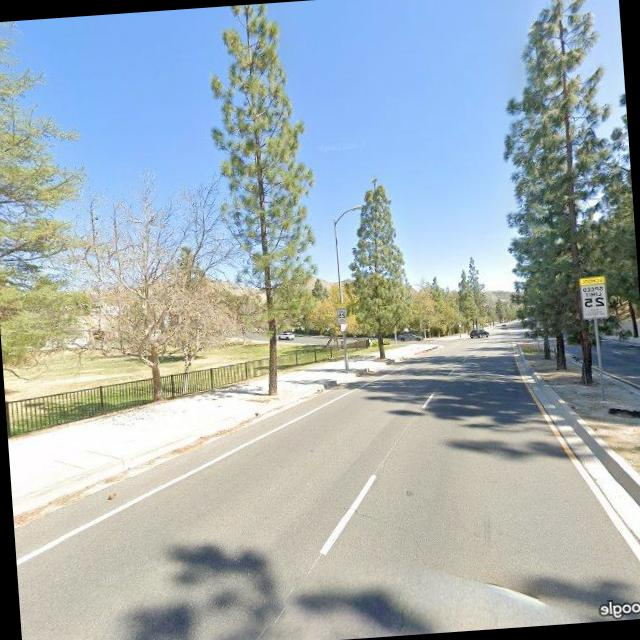crack: (328, 499, 377, 522)
